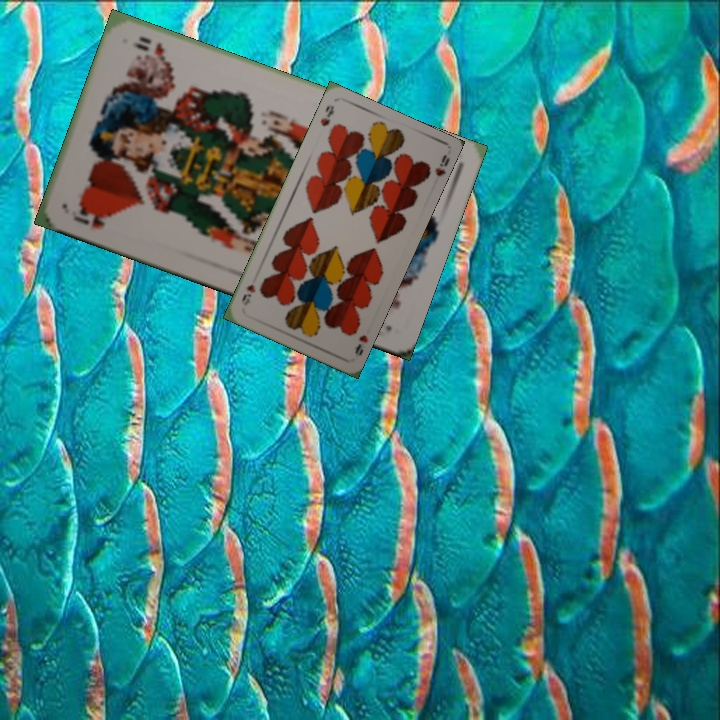H9: (316, 101, 337, 129), (351, 331, 371, 358)
HO: (67, 202, 107, 232)
